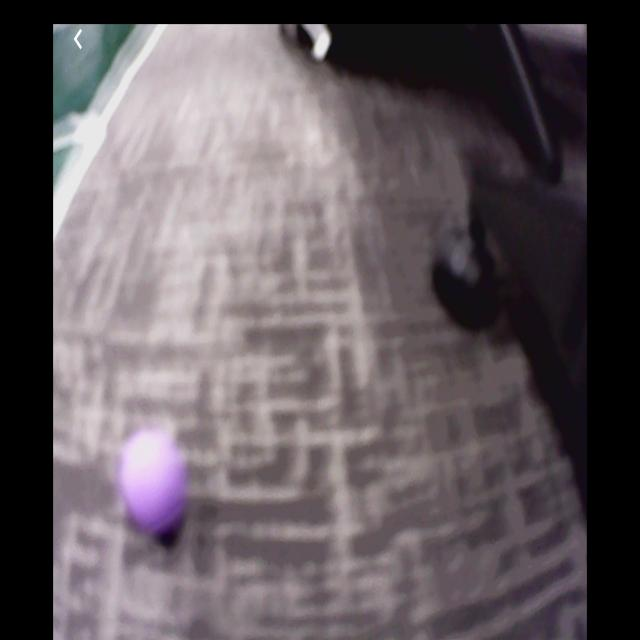ball: (121, 431, 188, 540)
